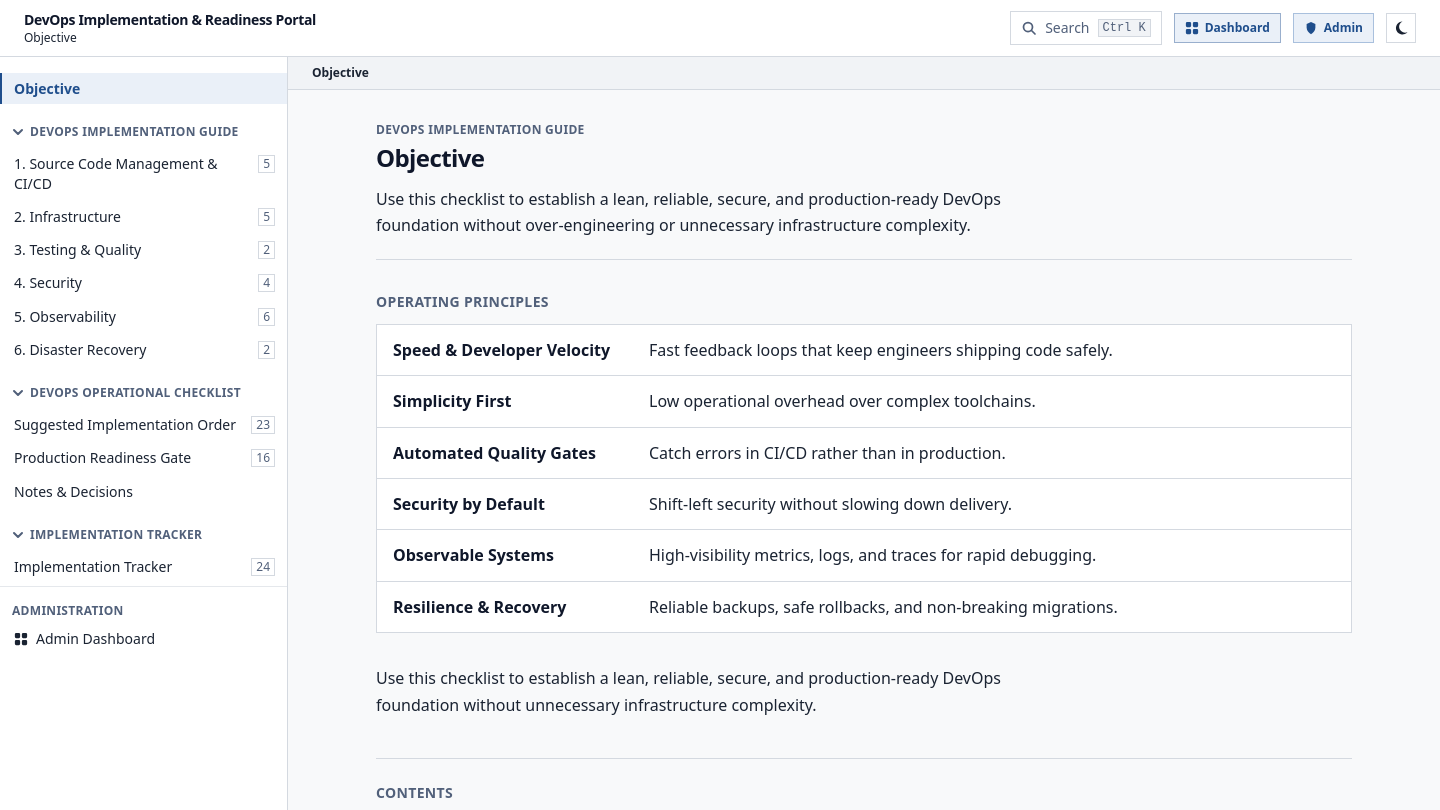
Test: search dialog — results › shows guidance before anything is typed
The width and height of the screenshot is (1440, 810).
Click the button "Search Ctrl K" at (1086, 28), box [1010,11,1162,45]
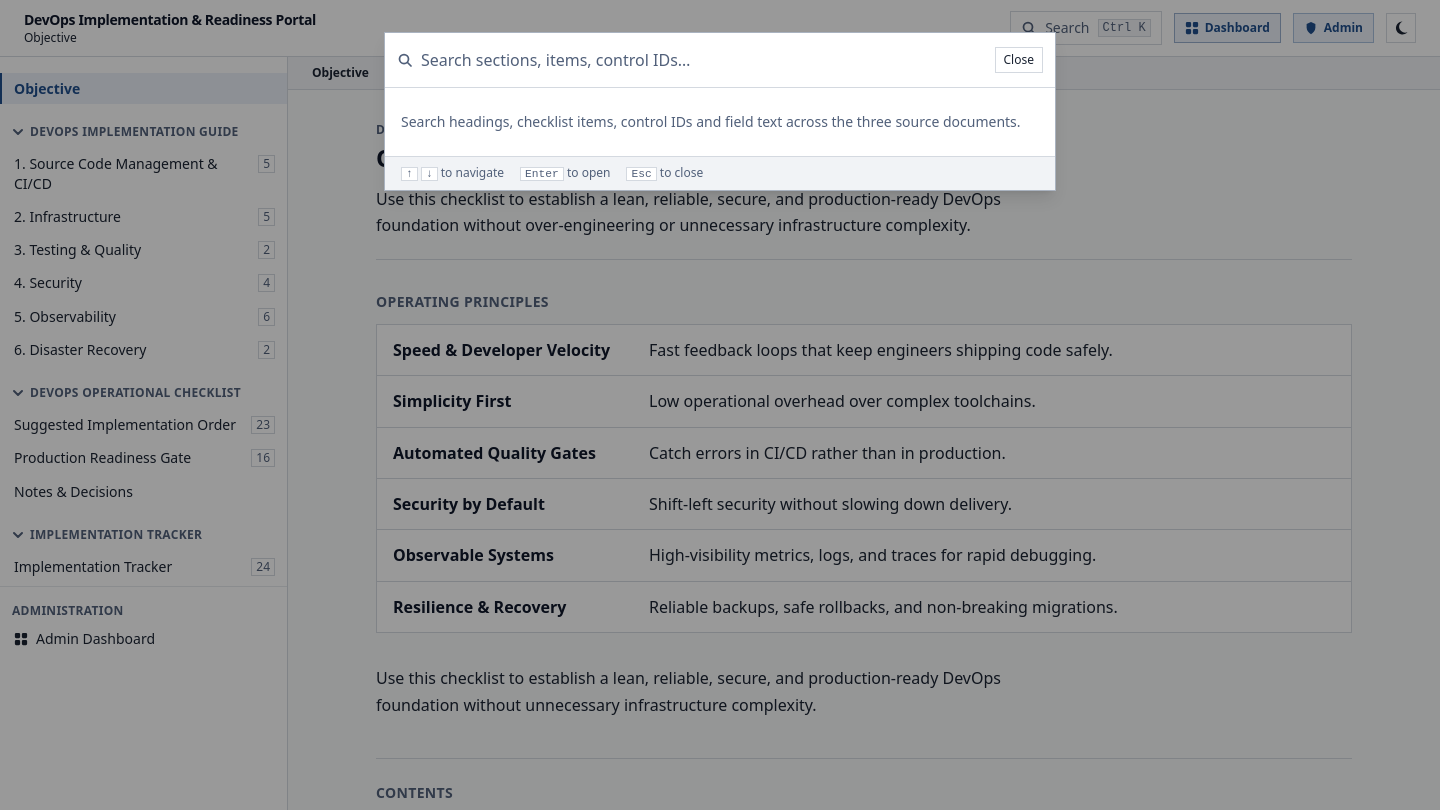
Result: the text "Search headings, checklist items" is shown at [401,112,1021,131]
